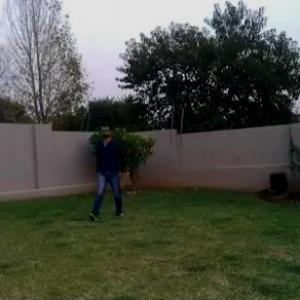follow: (91, 118, 126, 229)
